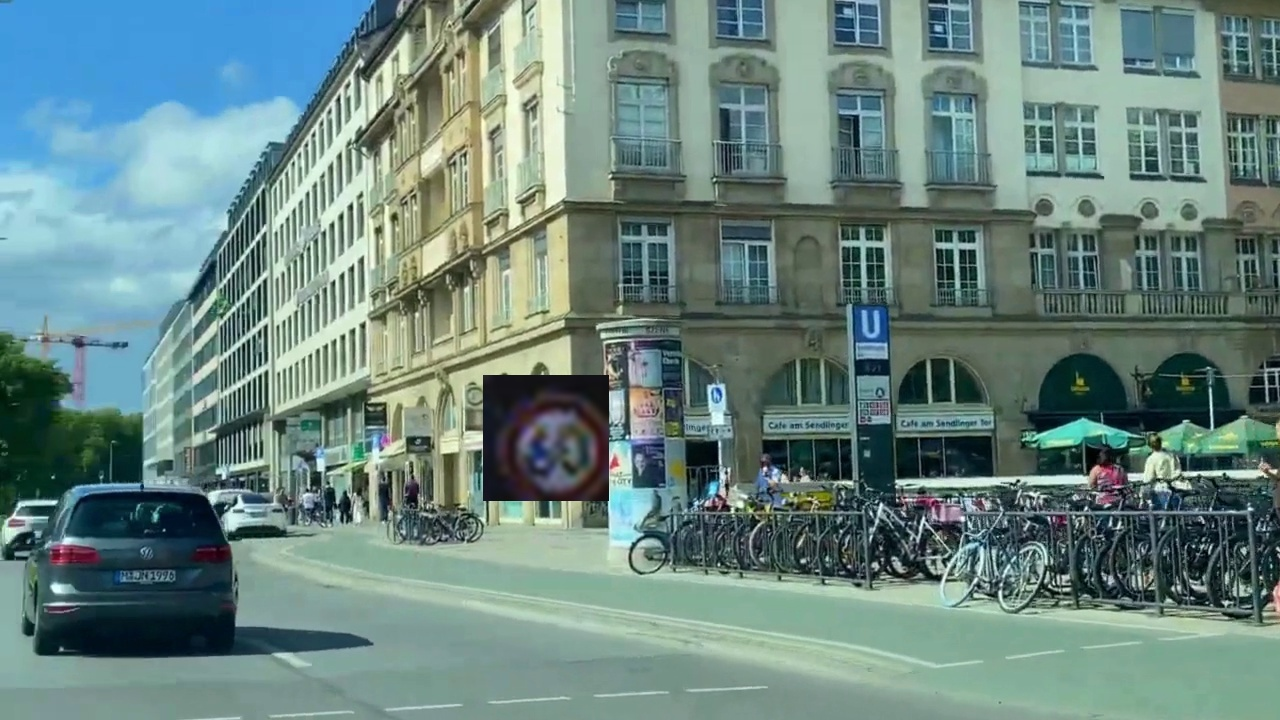Speed 60: (483, 375, 609, 501)
